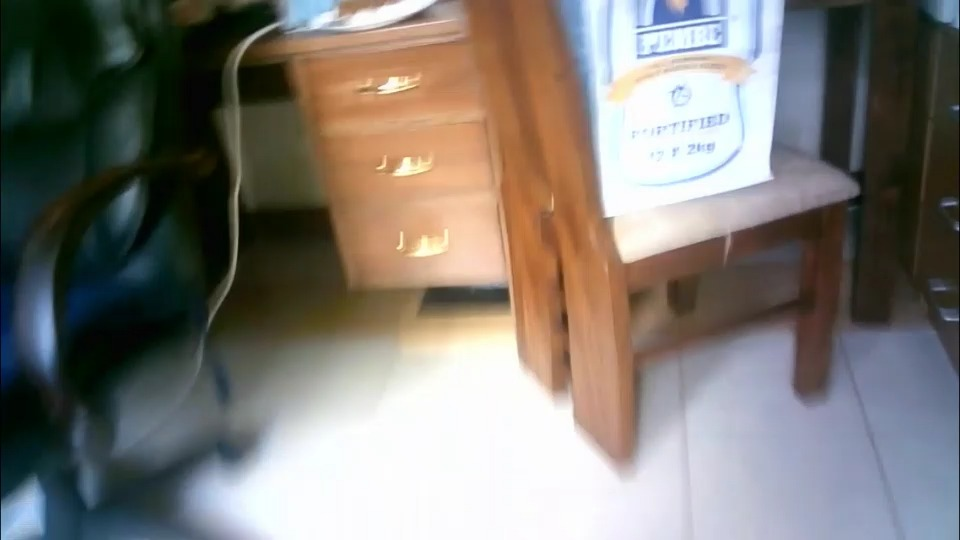wheat_flour_blue_label: (570, 0, 776, 214)
